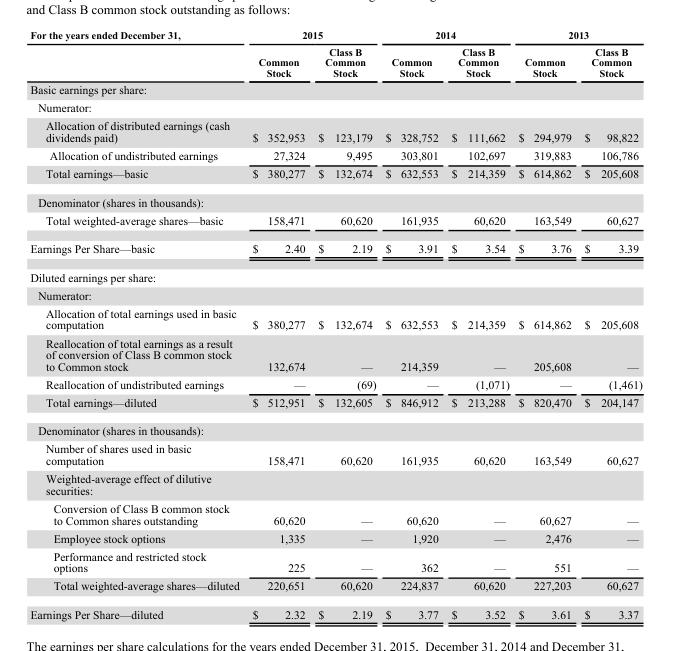table: (29, 28, 641, 620)
table column: (29, 28, 245, 620), (311, 28, 380, 620), (444, 28, 513, 620), (245, 28, 311, 620), (380, 28, 444, 620), (513, 28, 577, 620), (577, 28, 641, 620)
table column header: (29, 28, 641, 80)
table projected row header: (29, 469, 641, 498), (29, 187, 641, 210), (29, 262, 641, 285), (29, 416, 641, 439), (29, 80, 641, 98), (29, 98, 641, 116), (29, 285, 641, 303)
table row: (29, 333, 641, 374), (29, 42, 641, 80), (29, 116, 641, 146), (29, 303, 641, 333), (29, 439, 641, 469), (29, 498, 641, 528), (29, 546, 641, 576), (29, 469, 641, 498), (29, 234, 641, 262), (29, 210, 641, 234), (29, 164, 641, 187), (29, 187, 641, 210), (29, 262, 641, 285), (29, 393, 641, 416), (29, 416, 641, 439), (29, 576, 641, 599), (29, 599, 641, 620), (29, 374, 641, 393), (29, 80, 641, 98), (29, 98, 641, 116), (29, 146, 641, 164), (29, 285, 641, 303), (29, 528, 641, 546), (29, 28, 641, 42)
table spanning cell: (29, 28, 245, 80), (245, 28, 380, 42), (380, 28, 513, 42), (513, 28, 641, 42)
